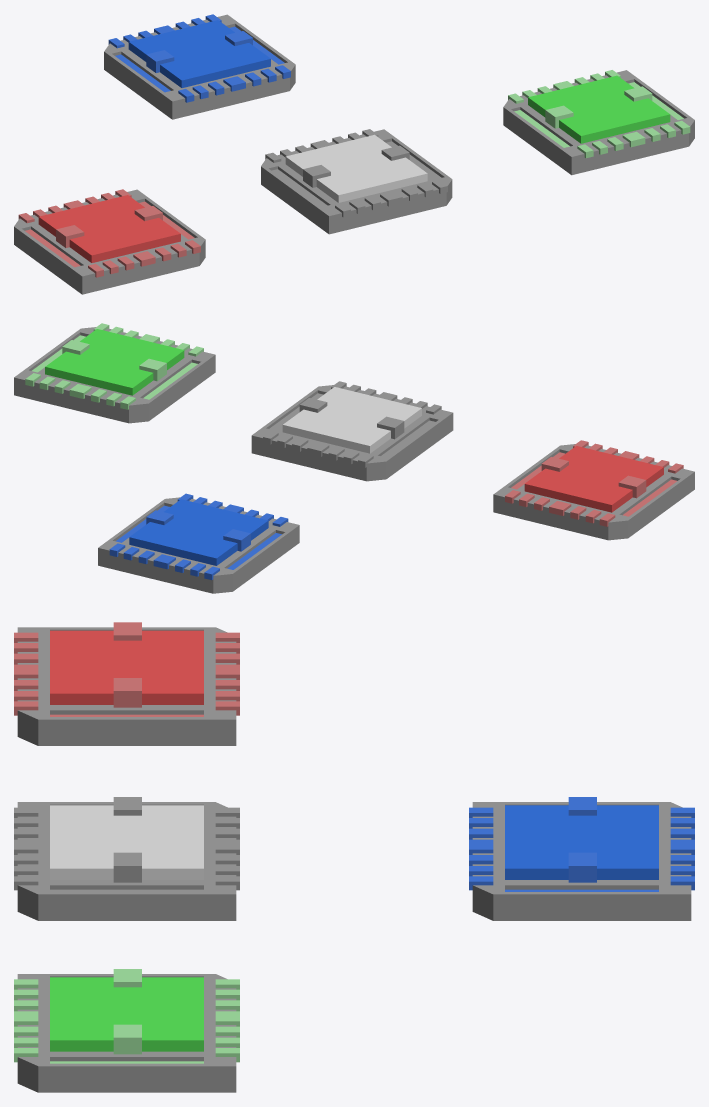
Rendered from Chips.fbx.
3 renders of one model, top to bottom at view 1: azimuth 30°, elevation 25°; view 2: azimuth 150°, elevation 25°; view 3: azimuth 270°, elevation 25°, orthographic. The views are drawn at different scales.
Parts seen in each view (by area): view 1: WhiteChip, RedChip, GreenChip, BlueChip; view 2: WhiteChip, RedChip, BlueChip, GreenChip; view 3: RedChip, WhiteChip, BlueChip, GreenChip.
Part boxes in pixels (x1=…): WhiteChip: x1=261, y1=129, x2=452, y2=234; RedChip: x1=14, y1=189, x2=205, y2=294; GreenChip: x1=503, y1=70, x2=694, y2=175; BlueChip: x1=104, y1=14, x2=295, y2=119; WhiteChip: x1=251, y1=381, x2=453, y2=481; RedChip: x1=493, y1=440, x2=694, y2=540; BlueChip: x1=98, y1=493, x2=299, y2=593; GreenChip: x1=14, y1=323, x2=215, y2=423; RedChip: x1=14, y1=622, x2=239, y2=745; WhiteChip: x1=14, y1=797, x2=239, y2=920; BlueChip: x1=469, y1=797, x2=694, y2=920; GreenChip: x1=14, y1=969, x2=239, y2=1092.
Size of the model in its own units: 12.27 by 0.5645 by 8.04.
